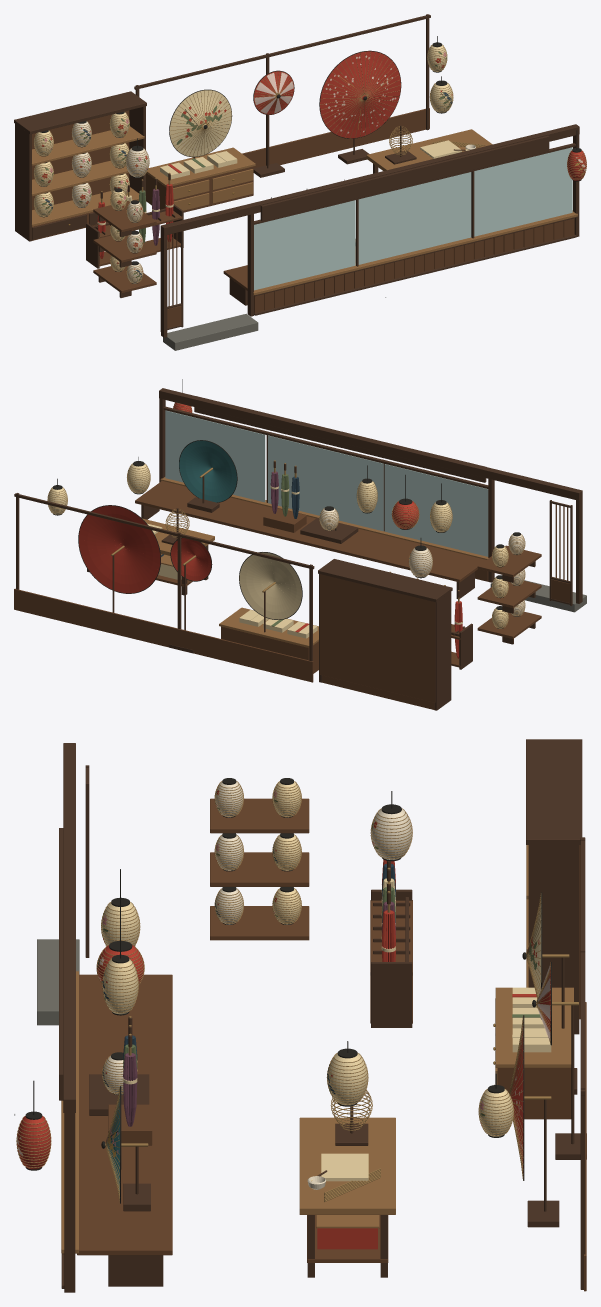
Rendered from japan_kit36_lanterns_umbrellas2.fbx.
3 views of the same model, one above another, from view 1: azimuth 30°, elevation 25°; view 2: azimuth 150°, elevation 25°; view 3: azimuth 270°, elevation 25° (orthographic). The views are drawn at different scales.
Parts seen in each view (by area): view 1: C2_Glazing1_Glass, C2_Glazing0_Glass, C2_Glazing2_Glass, C2_BaseBoards_Cedar, C2_BackUmbrellaB_Rust, C2_MainSign_Walnut, C2_BackDado_Cedar, C2_Header_Walnut, C2_BackUmbrellaA_Paper, C2_RearCabinetPosts_Walnut, C2_RearCabinetCrown_Walnut, C2_RearCabinetBack_Cedar (+32 smaller); view 2: C2_RearCabinetBack_Cedar, C2_WindowDeck_Cedar, C2_Glazing1_Glass, C2_BackDado_Cedar, C2_Glazing0_Glass, C2_BackUmbrellaB_Rust, C2_Header_Walnut, C2_Glazing2_Glass, C2_BackUmbrellaA_Paper, C2_WindowUmbrella_Teal, C2_RearCabinetCrown_Walnut, C2_RearCabinetPosts_Walnut (+26 smaller); view 3: C2_WindowDeck_Cedar, C2_WorkTop_Hinoki, C2_RearCabinetPosts_Walnut, C2_RearCabinetCrown_Walnut, C2_Header_Walnut, C2_CabinetTop_Hinoki, C2_BackRack_Walnut, C2_StockCabinet_Cedar, C2_LeftShelf2_Cedar, C2_LeftShelf0_Cedar, C2_LeftShelf1_Cedar, C2_FrontPosts_Walnut (+40 smaller).
Boxes of the visible parts, <box> form: C2_Glazing1_Glass: <box>358,172,471,264</box>; C2_Glazing0_Glass: <box>254,200,355,290</box>; C2_Glazing2_Glass: <box>474,147,572,236</box>; C2_BaseBoards_Cedar: <box>254,218,573,312</box>; C2_BackUmbrellaB_Rust: <box>320,51,400,138</box>; C2_MainSign_Walnut: <box>260,135,549,221</box>; C2_BackDado_Cedar: <box>242,108,429,168</box>; C2_Header_Walnut: <box>160,124,579,235</box>; C2_BackUmbrellaA_Paper: <box>169,90,231,156</box>; C2_RearCabinetPosts_Walnut: <box>15,106,145,241</box>; C2_RearCabinetCrown_Walnut: <box>14,91,146,134</box>; C2_RearCabinetBack_Cedar: <box>32,110,129,209</box>; C2_RearCabinetBack_Cedar: <box>320,574,435,702</box>; C2_WindowDeck_Cedar: <box>135,481,485,582</box>; C2_Glazing1_Glass: <box>268,435,383,531</box>; C2_BackDado_Cedar: <box>14,588,313,682</box>; C2_Glazing0_Glass: <box>384,464,488,556</box>; C2_BackUmbrellaB_Rust: <box>79,505,160,593</box>; C2_Header_Walnut: <box>159,388,582,500</box>; C2_Glazing2_Glass: <box>165,410,265,502</box>; C2_BackUmbrellaA_Paper: <box>239,552,301,619</box>; C2_WindowUmbrella_Teal: <box>179,440,236,502</box>; C2_RearCabinetCrown_Walnut: <box>318,559,452,602</box>; C2_RearCabinetPosts_Walnut: <box>319,574,451,710</box>; C2_WindowDeck_Cedar: <box>77,974,172,1255</box>; C2_WorkTop_Hinoki: <box>299,1117,395,1214</box>; C2_RearCabinetPosts_Walnut: <box>528,845,579,1034</box>; C2_RearCabinetCrown_Walnut: <box>526,739,582,844</box>; C2_Header_Walnut: <box>63,743,75,1112</box>; C2_CabinetTop_Hinoki: <box>495,987,573,1067</box>; C2_BackRack_Walnut: <box>371,889,412,1027</box>; C2_StockCabinet_Cedar: <box>497,1068,571,1119</box>; C2_LeftShelf2_Cedar: <box>210,798,309,833</box>; C2_LeftShelf0_Cedar: <box>210,906,309,940</box>; C2_LeftShelf1_Cedar: <box>210,852,309,886</box>; C2_FrontPosts_Walnut: <box>64,1107,75,1292</box>.
Bounding box in the file's own units: 30.85 × 8.7 × 20.82.
